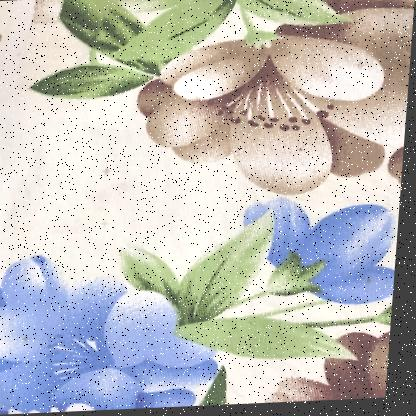spot: (103, 163, 118, 178), (25, 330, 39, 343), (101, 218, 114, 229), (297, 147, 307, 158), (367, 280, 378, 289)
